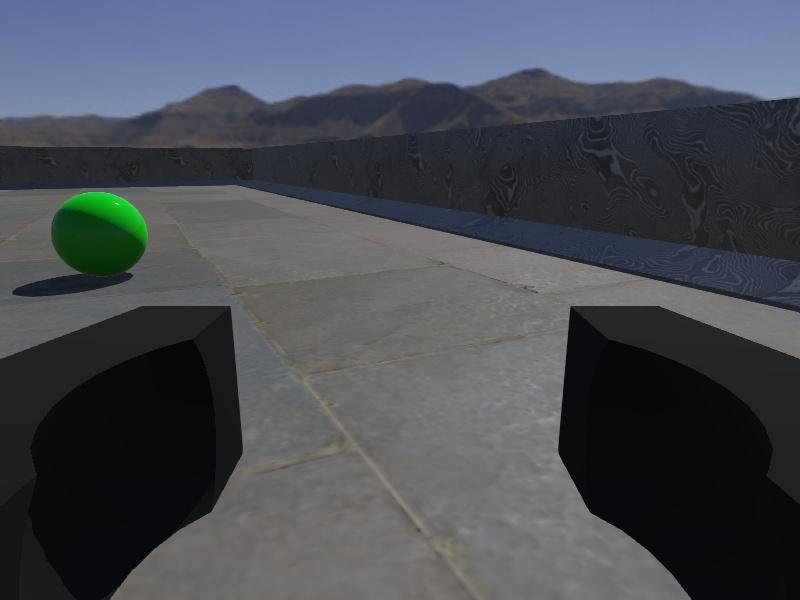green ball: (50, 190, 148, 278)
